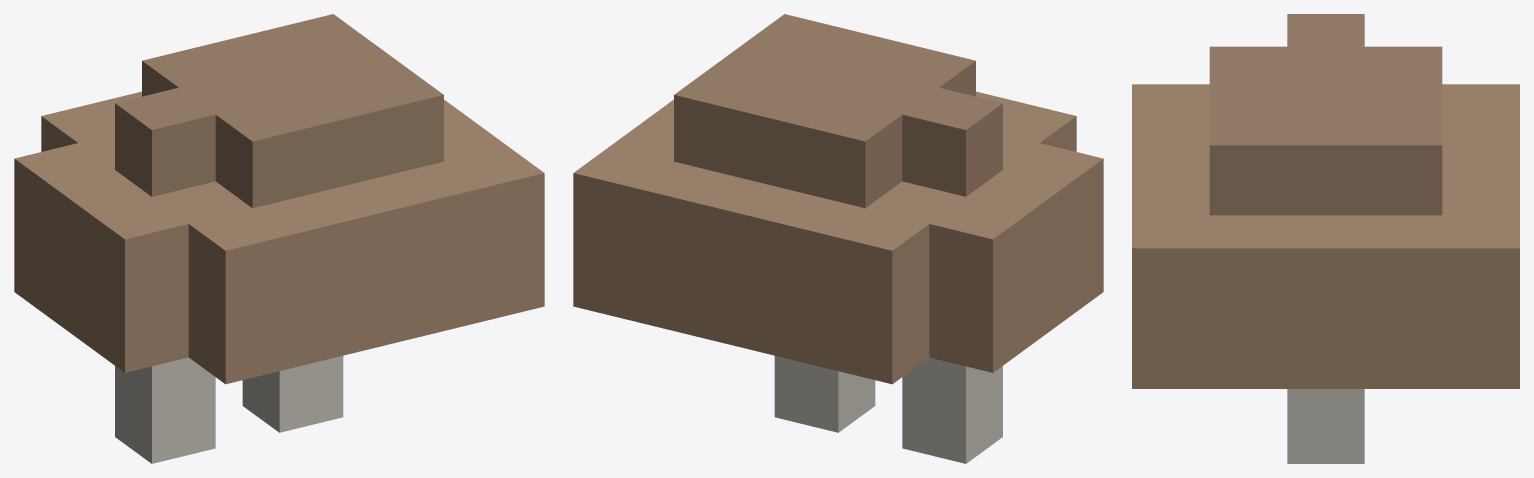
Rendered from boletus_01.glb.
The picture shows the model from 3 angles, left to right: view 1: azimuth 30°, elevation 25°; view 2: azimuth 150°, elevation 25°; view 3: azimuth 270°, elevation 25°; orthographic projection. The views are drawn at different scales.
Visible parts, largest first — view 1: boletus_01; view 2: boletus_01; view 3: boletus_01.
Boxes of the visible parts, <box> form: boletus_01: <box>14,14,544,463</box>; boletus_01: <box>573,14,1103,463</box>; boletus_01: <box>1132,14,1519,463</box>.
Bounding box in the file's own units: 0.6 × 0.5 × 0.5.
